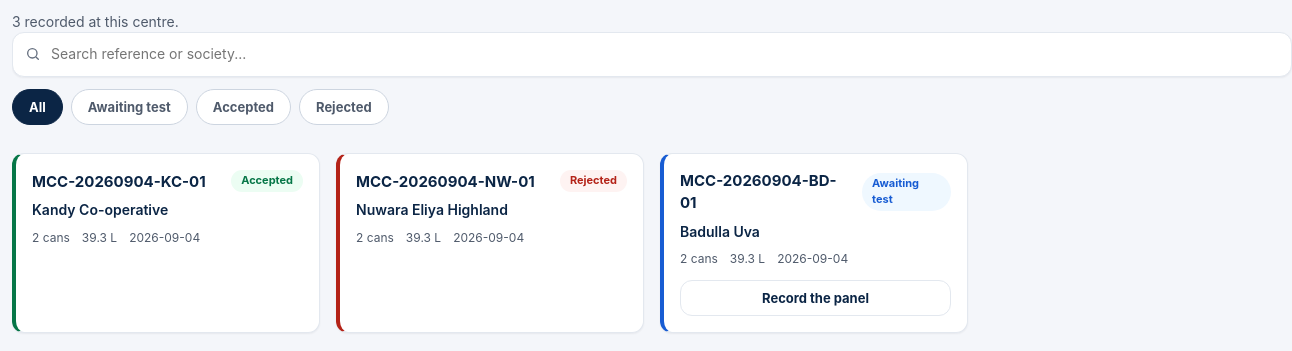
Test case: reviewing deliveries › offers the panel only on a consignment still awaiting one
Check: the text "MCC-20260904-BD-01" is shown, box [680,170,850,214]
Check: the number of buttons "Record the panel" is 1, box [680,280,951,316]
Step 1. Click the button "Accepted" → {"x": 243, "y": 107}, box [196,89,291,125]
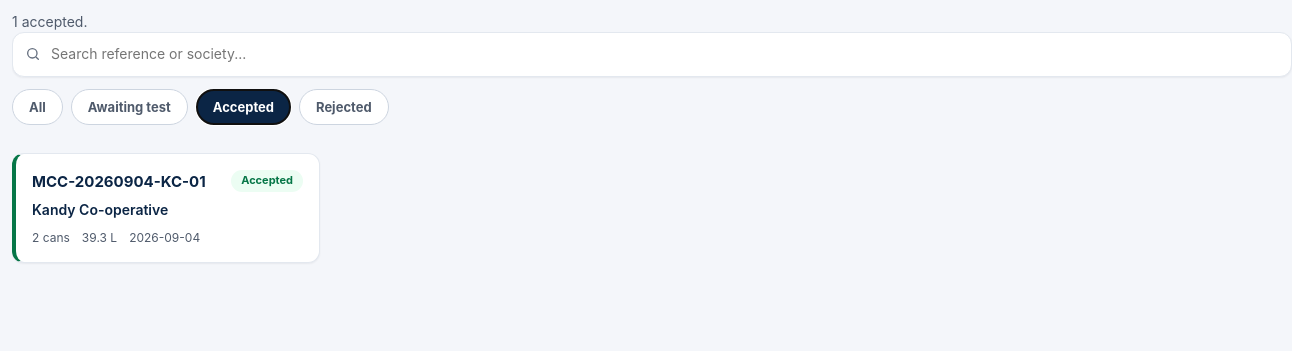
Check: the text "MCC-20260904-KC-01" is shown, box [32,170,206,192]
Check: the button "Record the panel" is gone
